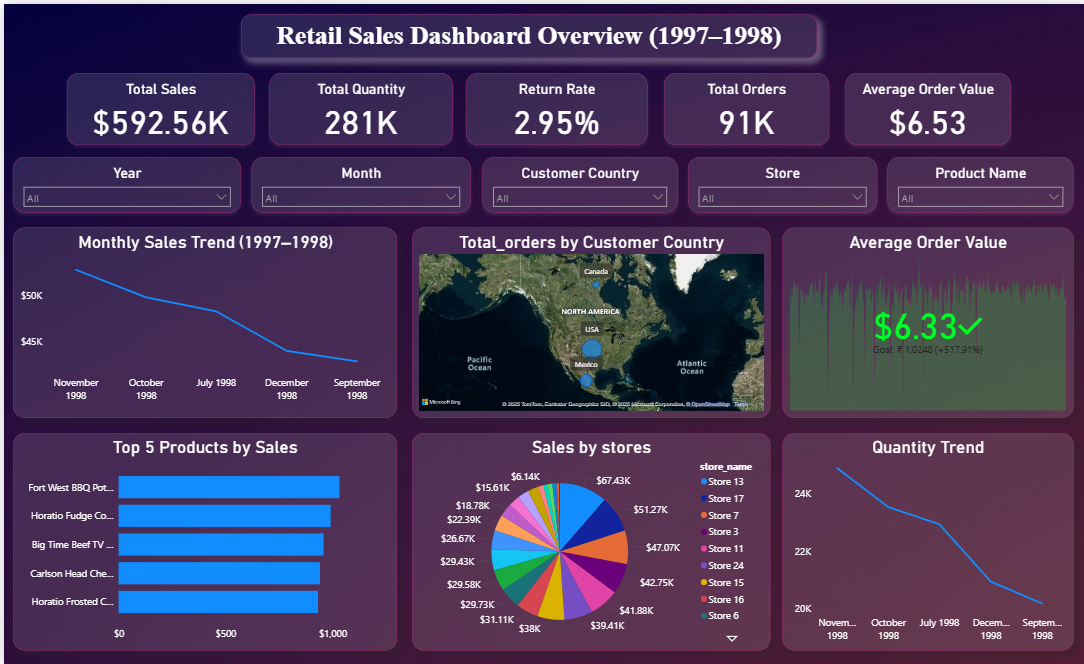

The page's visual inventory and layout, read from the dashboard file:
{"tool":"powerbi","page":{"name":"Page 1","canvas":[1800,1100],"ordinal":0},"visuals":[{"type":"textbox","box":[395,17.5,960,72.5],"z":0},{"type":"card","title":"Total Sales","fields":{"Values":["Products.Total Sales"]},"box":[105,115,312.5,120],"z":1000},{"type":"card","title":"Total Orders","fields":{"Values":["Products.Total_orders"]},"box":[1100,115,275,120],"z":2000},{"type":"card","title":"Total Quantity","fields":{"Values":["Products.Total_Quantity"]},"box":[442.5,115,305,120],"z":3000},{"type":"card","title":"Return Rate","fields":{"Values":["Products.Return_rate"]},"box":[770,115,302.5,120],"z":4000},{"type":"lineChart","title":"Monthly Sales Trend (1997–1998)","fields":{"Y":["Products.Total Sales"],"Category":["Calendar.month_year"]},"box":[15,372.5,640,317.5],"z":5000},{"type":"map","title":"Total_orders by Customer Country","fields":{"Category":["Customer.customer_country"],"Size":["Products.Total_orders"]},"box":[680,372.5,597.5,317.5],"z":6000},{"type":"slicer","title":"Year","fields":{"Values":["Calendar.Year"]},"box":[15,255,380,92.5],"z":7000},{"type":"slicer","title":"Month","fields":{"Values":["Calendar.Month Name"]},"box":[412.5,255,365,92.5],"z":8000},{"type":"slicer","title":"Customer Country","fields":{"Values":["Customer.customer_country"]},"box":[797.5,255,325,92.5],"z":9000},{"type":"slicer","title":"Store ","fields":{"Values":["Stores.store_name"]},"box":[1140,255,315,92.5],"z":10000},{"type":"slicer","title":"Product Name","fields":{"Values":["Products.product_name"]},"box":[1472.5,255,310,92.5],"z":11000},{"type":"barChart","title":" Top 5 Products by Sales","fields":{"Category":["Products.product_name"],"Y":["Products.Total Sales"]},"box":[15,715,640,362.5],"z":12000},{"type":"pieChart","title":"Sales by stores","fields":{"Category":["Stores.store_name"],"Y":["Products.Total Sales"]},"box":[680,715,597.5,362.5],"z":13000},{"type":"kpi","title":"Average Order Value ","fields":{"Indicator":["Products.Average_order_value"],"TrendLine":["Transaction_1997_1998.transaction_date"],"Goal":["Products.AverageOrderTarget"]},"box":[1297.5,372.5,485,317.5],"z":14000},{"type":"lineChart","title":"Quantity Trend","fields":{"Y":["Products.Total_Quantity"],"Category":["Calendar.month_year"]},"box":[1297.5,715,485,362.5],"z":15000},{"type":"card","title":"Average Order Value","fields":{"Values":["Products.Average_order_value"]},"box":[1402.5,115,275,120],"z":16000}]}

Visuals, with their boxes in screenshot pixels (x1, y1, x2, y2), scaled from the page's 1800x1100 canvas onto the 1084x664 screenshot:
textbox: 238 11 816 54
"Total Sales" card: 63 69 251 142
"Total Orders" card: 662 69 828 142
"Total Quantity" card: 266 69 450 142
"Return Rate" card: 464 69 646 142
"Monthly Sales Trend (1997–1998)" lineChart: 9 225 394 417
"Total_orders by Customer Country" map: 410 225 769 417
"Year" slicer: 9 154 238 210
"Month" slicer: 248 154 468 210
"Customer Country" slicer: 480 154 676 210
"Store " slicer: 687 154 876 210
"Product Name" slicer: 887 154 1073 210
" Top 5 Products by Sales" barChart: 9 432 394 650
"Sales by stores" pieChart: 410 432 769 650
"Average Order Value " kpi: 781 225 1073 417
"Quantity Trend" lineChart: 781 432 1073 650
"Average Order Value" card: 845 69 1010 142
